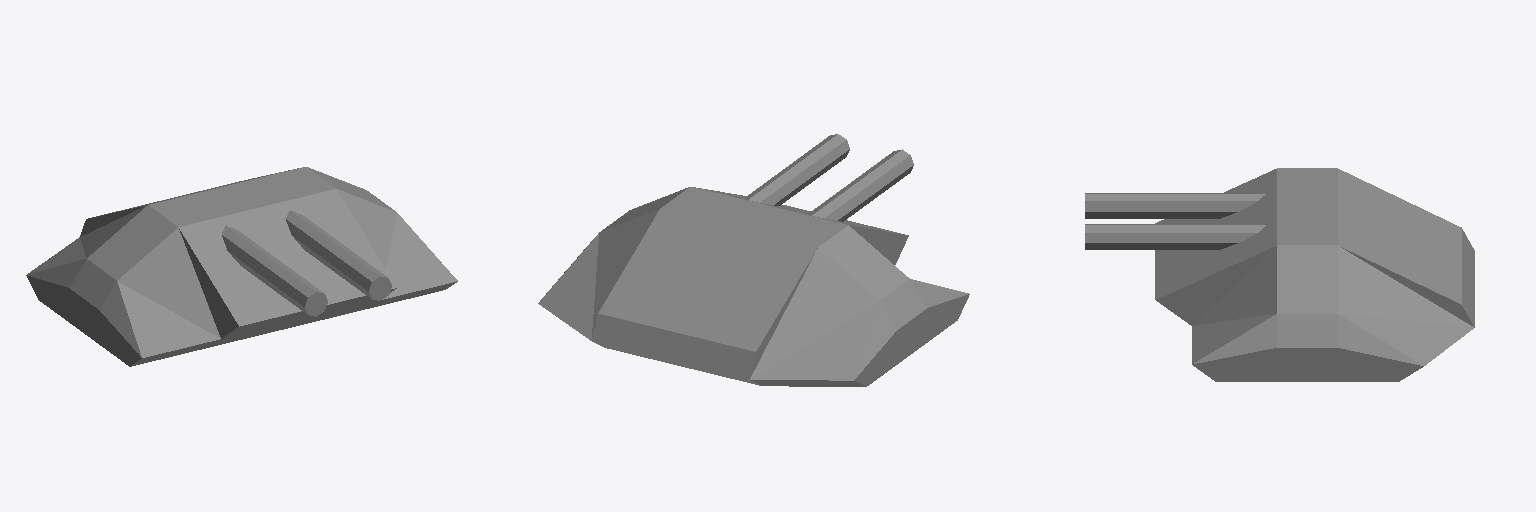
Rendered from Tank2.obj.
3 renders of one model, left to right at view 1: azimuth 30°, elevation 25°; view 2: azimuth 150°, elevation 25°; view 3: azimuth 270°, elevation 25°, orthographic.
Visible parts, largest first — view 1: Box14; view 2: Box14; view 3: Box14.
Boxes of the visible parts, x1=… form: Box14: x1=26, y1=167, x2=457, y2=366; Box14: x1=538, y1=134, x2=969, y2=386; Box14: x1=1085, y1=168, x2=1474, y2=381.
Bounding box in the file's own units: 4 × 1.19 × 4.27.